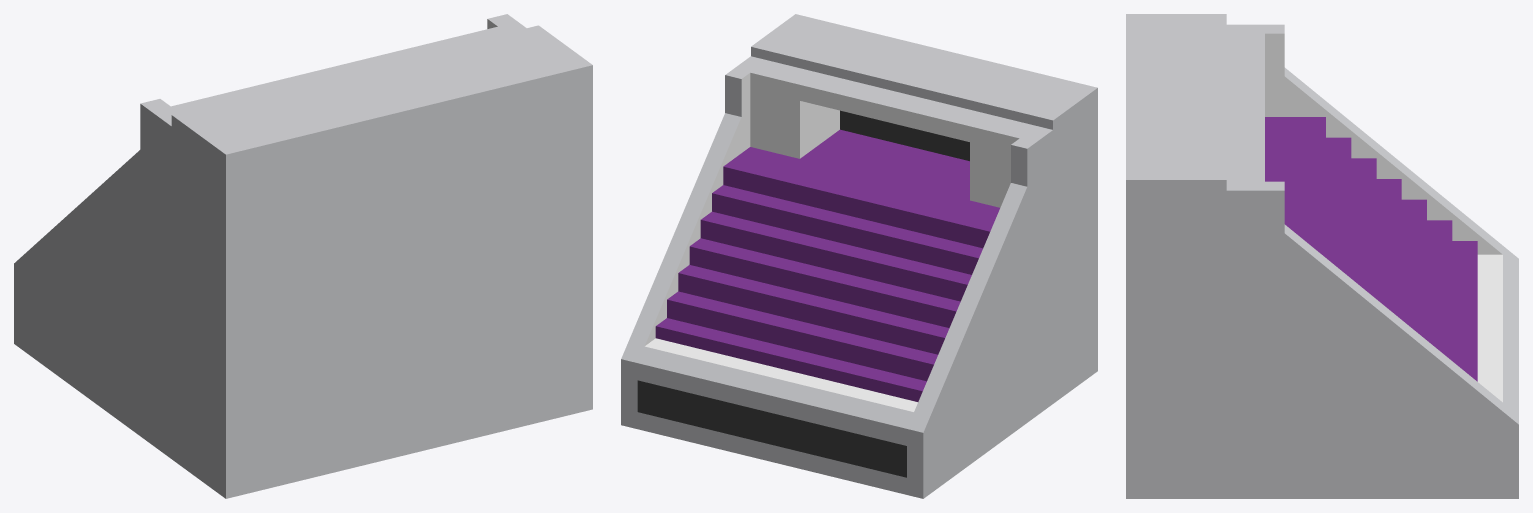
The model's file is grand-stand.glb.
The picture shows the model from 3 angles, left to right: view 1: azimuth 30°, elevation 25°; view 2: azimuth 150°, elevation 25°; view 3: azimuth 270°, elevation 25°; orthographic projection. The views are drawn at different scales.
Parts seen in each view (by area): view 1: grandStand; view 2: grandStand; view 3: grandStand.
Boxes of the visible parts, bbox=[...] form: grandStand: bbox=[14, 14, 592, 498]; grandStand: bbox=[621, 14, 1097, 498]; grandStand: bbox=[1126, 14, 1518, 498].
Bounding box in the file's own units: 1 × 0.8962 × 1.
